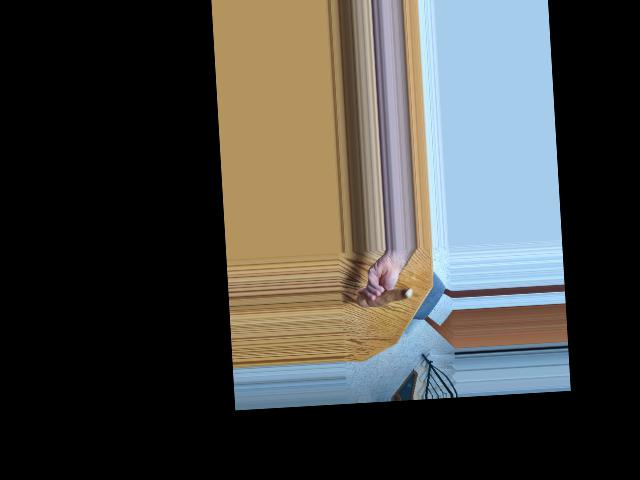sweet_potato: (355, 282, 411, 310)
